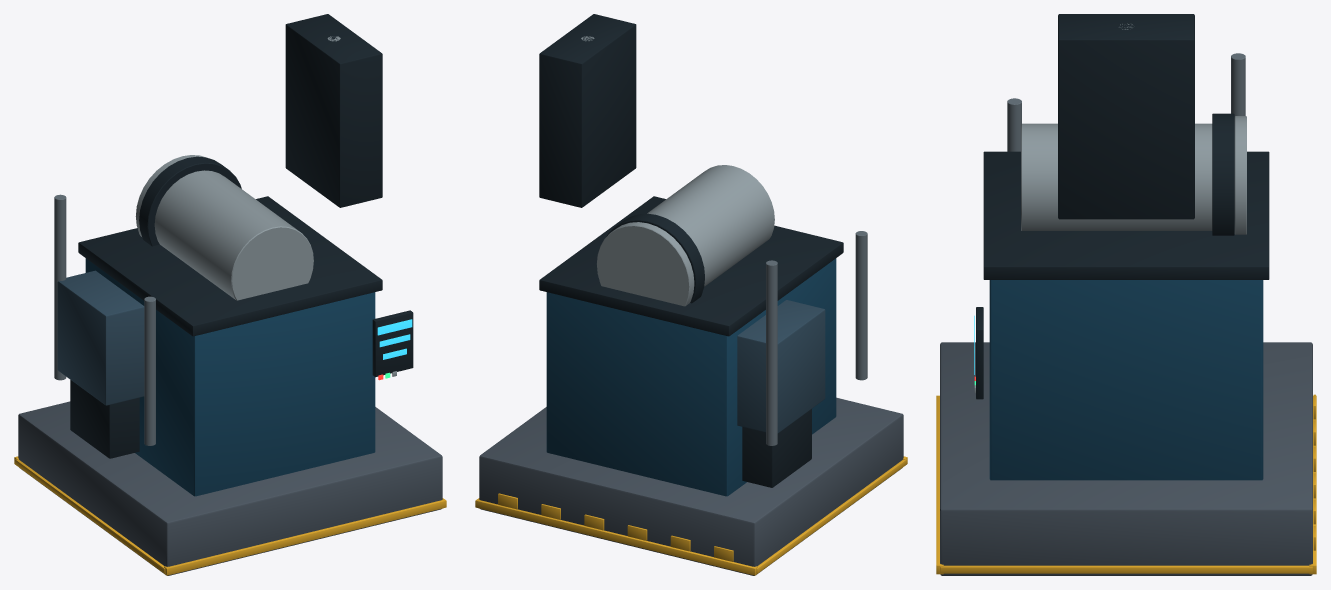
Rendered from uncoiler_mo.glb.
The picture shows the model from 3 angles, left to right: view 1: azimuth 30°, elevation 25°; view 2: azimuth 150°, elevation 25°; view 3: azimuth 270°, elevation 25°; orthographic projection. The views are drawn at different scales.
Visible parts, largest first — view 1: Asset_uncoiler; view 2: Asset_uncoiler; view 3: Asset_uncoiler.
Part boxes in pixels (x1,y1,x2,y2): Asset_uncoiler: [14, 14, 446, 575]; Asset_uncoiler: [475, 14, 907, 575]; Asset_uncoiler: [936, 14, 1316, 575].
Bounding box in the file's own units: 3.26 × 4.7 × 3.06.
